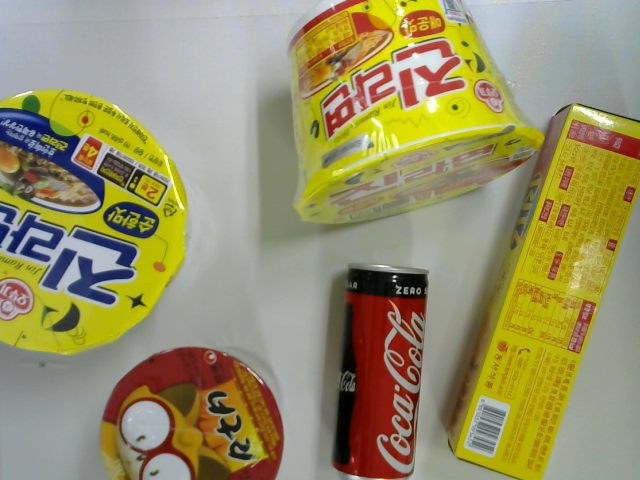Coca_Cola_Zero_Can_250ml: (331, 262, 429, 480)
Jinlamyeon_Hot_Taste_Large_Cup: (289, 1, 549, 226)
Jinlamyeon_Mild_Taste_Large_Cup: (1, 86, 191, 358)
Raccoon: (99, 345, 286, 480)
Ritz_Remon_96g: (446, 102, 640, 480)
